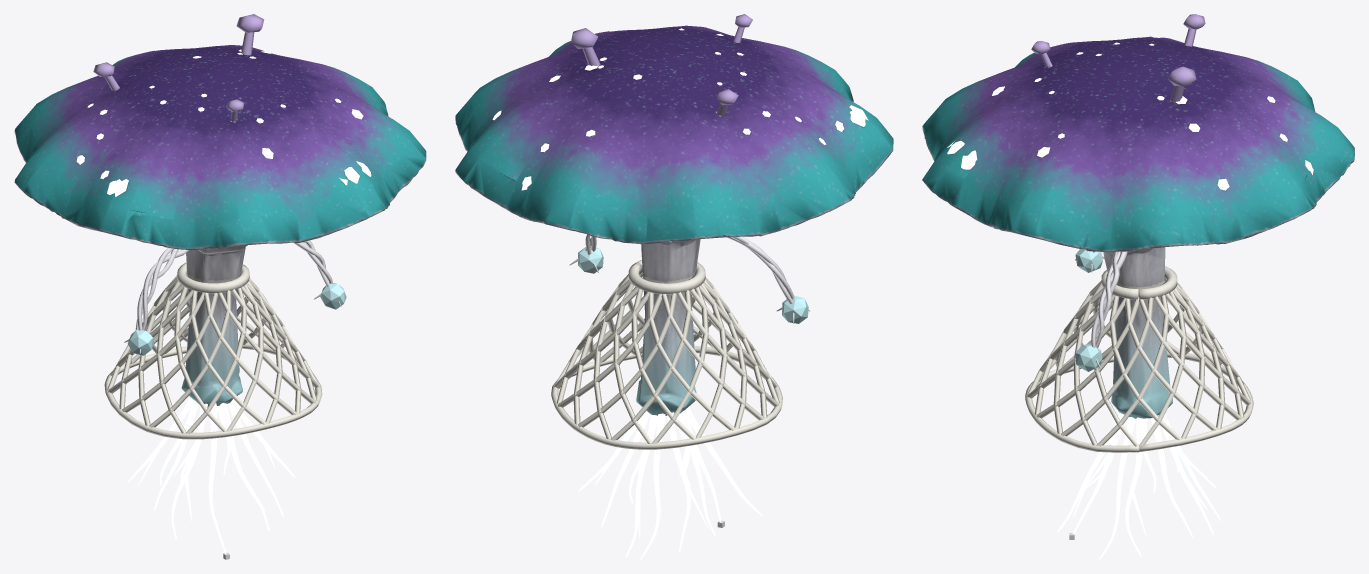
File: MyceliumSprite.fbx
3 renders of one model, left to right at view 1: azimuth 30°, elevation 25°; view 2: azimuth 150°, elevation 25°; view 3: azimuth 270°, elevation 25°, orthographic. The views are drawn at different scales.
Visible parts, largest first — view 1: MyceliumSprite_Cap, MyceliumSprite_Body, MyceliumSprite_Threads_Glow_95f6f9, MyceliumSprite_Cap_Glow_a0ffed, MyceliumSprite_ArmR, MyceliumSprite_ArmL, MyceliumSprite_ArmR_Glow_cbf9ff, MyceliumSprite_ArmL_Glow_cbf9ff; view 2: MyceliumSprite_Cap, MyceliumSprite_Body, MyceliumSprite_Threads_Glow_95f6f9, MyceliumSprite_Cap_Glow_a0ffed, MyceliumSprite_ArmR, MyceliumSprite_ArmR_Glow_cbf9ff; view 3: MyceliumSprite_Cap, MyceliumSprite_Body, MyceliumSprite_Threads_Glow_95f6f9, MyceliumSprite_ArmL, MyceliumSprite_Cap_Glow_a0ffed, MyceliumSprite_ArmL_Glow_cbf9ff.
Boxes of the visible parts, box(x1,y1,x2,y2) form: MyceliumSprite_Cap: box(14, 14, 426, 250); MyceliumSprite_Body: box(104, 245, 322, 439); MyceliumSprite_Threads_Glow_95f6f9: box(128, 397, 294, 553); MyceliumSprite_Cap_Glow_a0ffed: box(76, 49, 371, 196); MyceliumSprite_ArmR: box(124, 248, 188, 354); MyceliumSprite_ArmL: box(293, 240, 341, 306); MyceliumSprite_ArmR_Glow_cbf9ff: box(127, 330, 154, 355); MyceliumSprite_ArmL_Glow_cbf9ff: box(320, 283, 346, 309); MyceliumSprite_Cap: box(455, 14, 893, 244); MyceliumSprite_Body: box(551, 239, 782, 449); MyceliumSprite_Threads_Glow_95f6f9: box(578, 406, 762, 559); MyceliumSprite_Cap_Glow_a0ffed: box(492, 28, 868, 190); MyceliumSprite_ArmR: box(726, 236, 809, 323); MyceliumSprite_ArmR_Glow_cbf9ff: box(782, 295, 808, 323); MyceliumSprite_Cap: box(922, 14, 1354, 252); MyceliumSprite_Body: box(1025, 247, 1253, 452); MyceliumSprite_Threads_Glow_95f6f9: box(1057, 412, 1221, 559); MyceliumSprite_ArmL: box(1072, 251, 1127, 369); MyceliumSprite_Cap_Glow_a0ffed: box(947, 36, 1313, 190); MyceliumSprite_ArmL_Glow_cbf9ff: box(1075, 344, 1102, 371).
Bounding box in the file's own units: 1.66 × 2.13 × 1.64.
9 materials, 1 textured.
